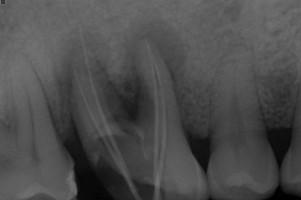Dental Caries: (52, 25, 112, 142), (122, 17, 190, 79), (110, 71, 141, 121)
